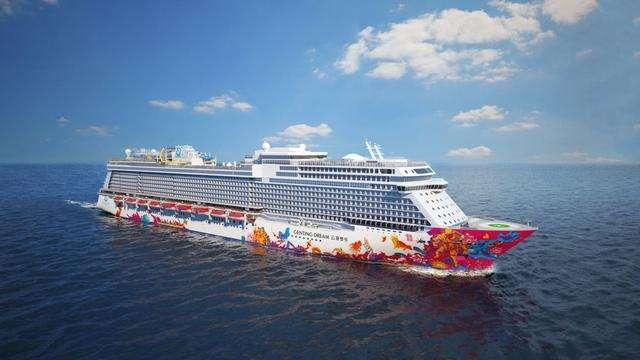youlun: (92, 142, 540, 282)
